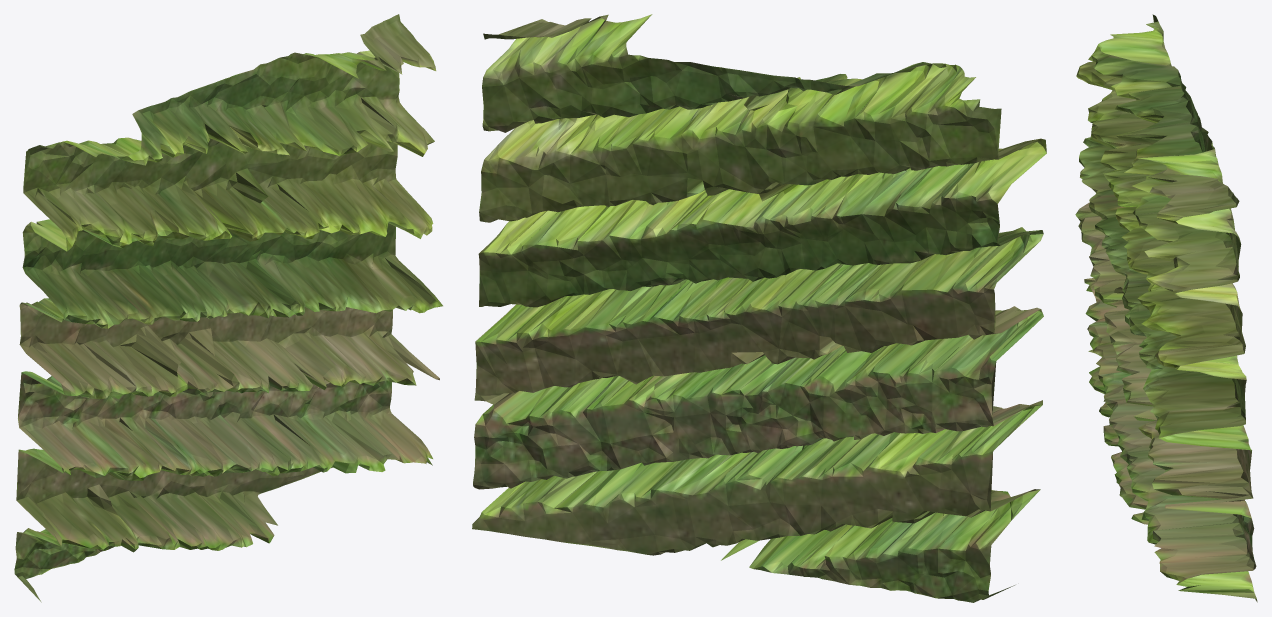
File: map_230_0.obj
3 renders of one model, left to right at view 1: azimuth 30°, elevation 25°; view 2: azimuth 150°, elevation 25°; view 3: azimuth 270°, elevation 25°, orthographic. The views are drawn at different scales.
Parts seen in each view (by area): view 1: grp1; view 2: grp1; view 3: grp1.
Boxes of the visible parts, x1,y1,x2,y2 form: grp1: (14, 14, 442, 602); grp1: (472, 14, 1046, 602); grp1: (1075, 14, 1257, 602).
Bounding box in the file's own units: 10 × 10 × 4.11.
Materials: 1 (1 with a texture image).
